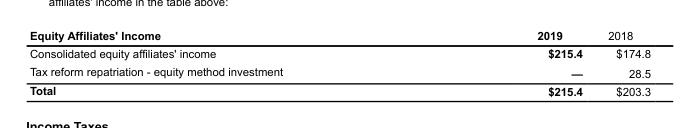table: (28, 29, 650, 97)
table column: (28, 29, 409, 97), (409, 29, 594, 97), (594, 29, 650, 97)
table column header: (28, 29, 650, 44)
table row: (28, 62, 650, 81), (28, 44, 650, 62), (28, 81, 650, 97), (28, 29, 650, 44)
